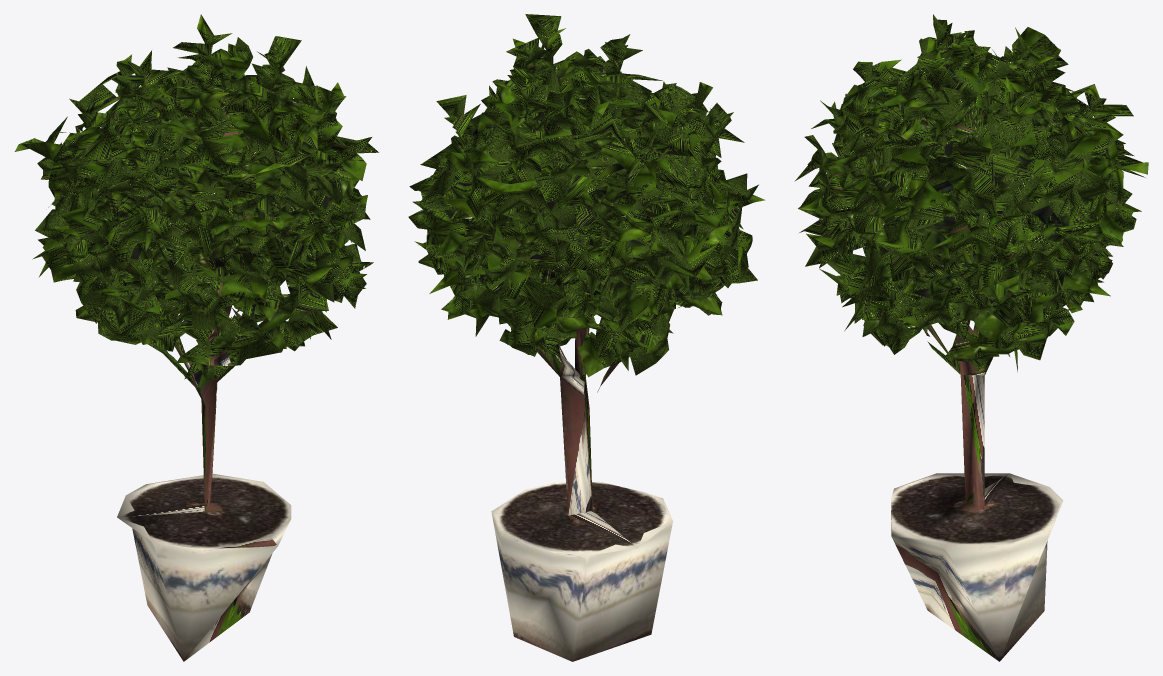
Rendered from lib_tp_camchau.near.glb.
3 renders of one model, left to right at view 1: azimuth 30°, elevation 25°; view 2: azimuth 150°, elevation 25°; view 3: azimuth 270°, elevation 25°, orthographic.
Visible parts, largest first — view 1: Mesh_0; view 2: Mesh_0; view 3: Mesh_0.
Boxes of the visible parts, x1,y1,x2,y2 form: Mesh_0: [14, 14, 378, 661]; Mesh_0: [408, 14, 765, 661]; Mesh_0: [794, 14, 1148, 661].
Size of the model in its own units: 0.9597 by 1.87 by 0.9922.
1 material, 1 textured.
